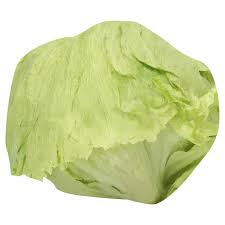lettuce: (9, 17, 219, 206)
